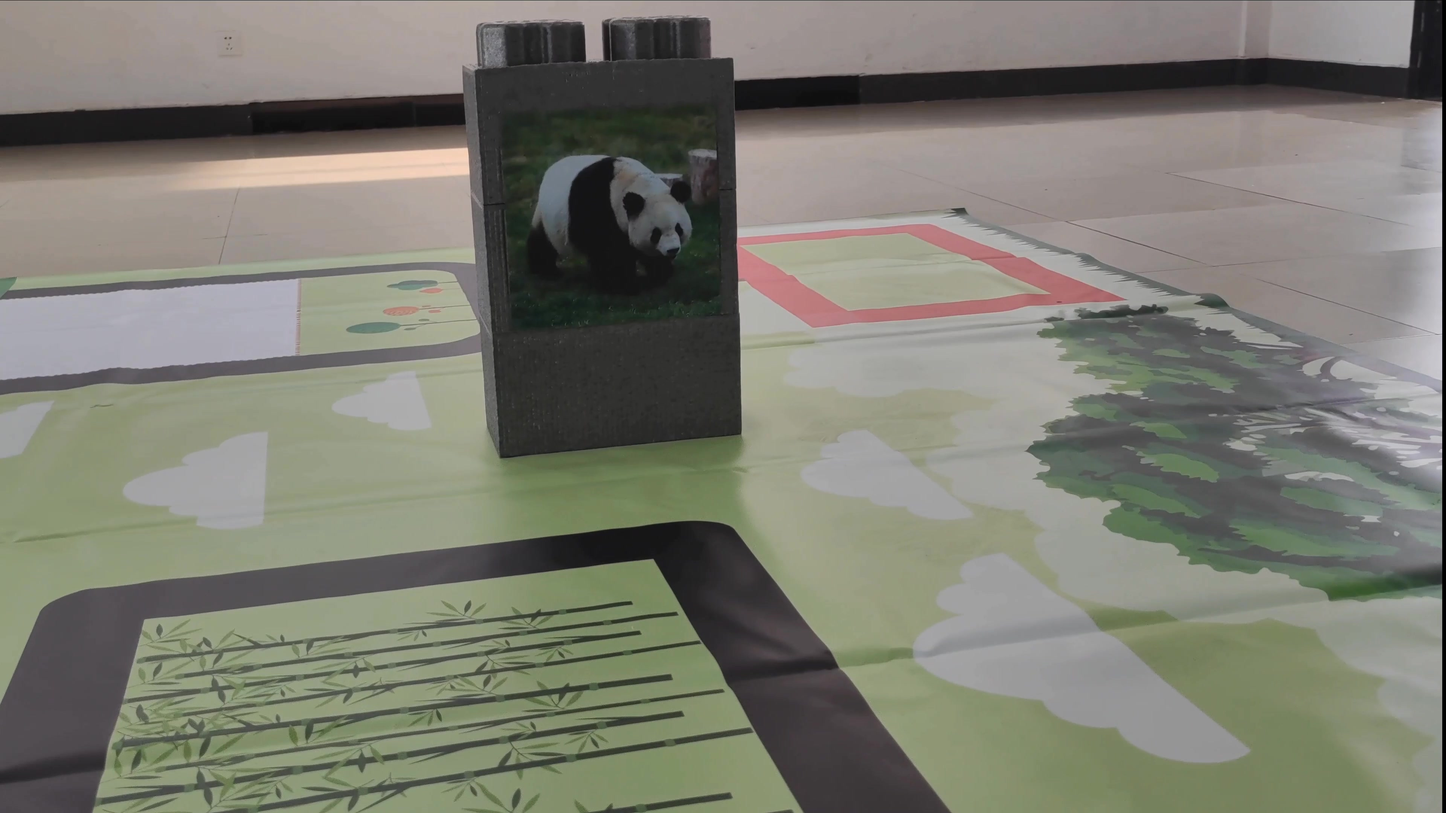panda: (505, 111, 717, 326)
